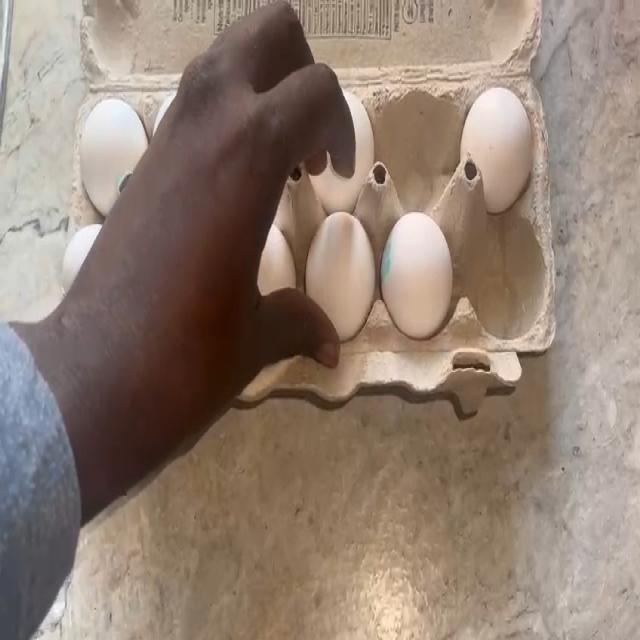Egg: (308, 209, 377, 333), (390, 212, 442, 322), (467, 89, 522, 179), (78, 100, 128, 170)
